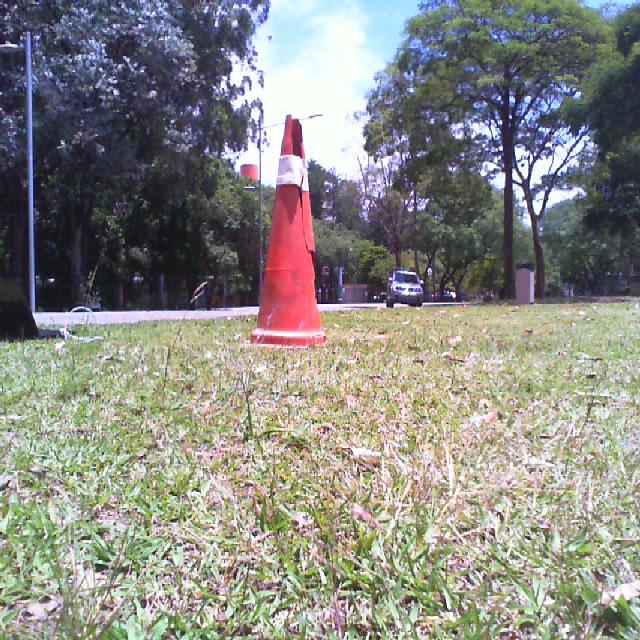cone: (252, 115, 328, 345)
